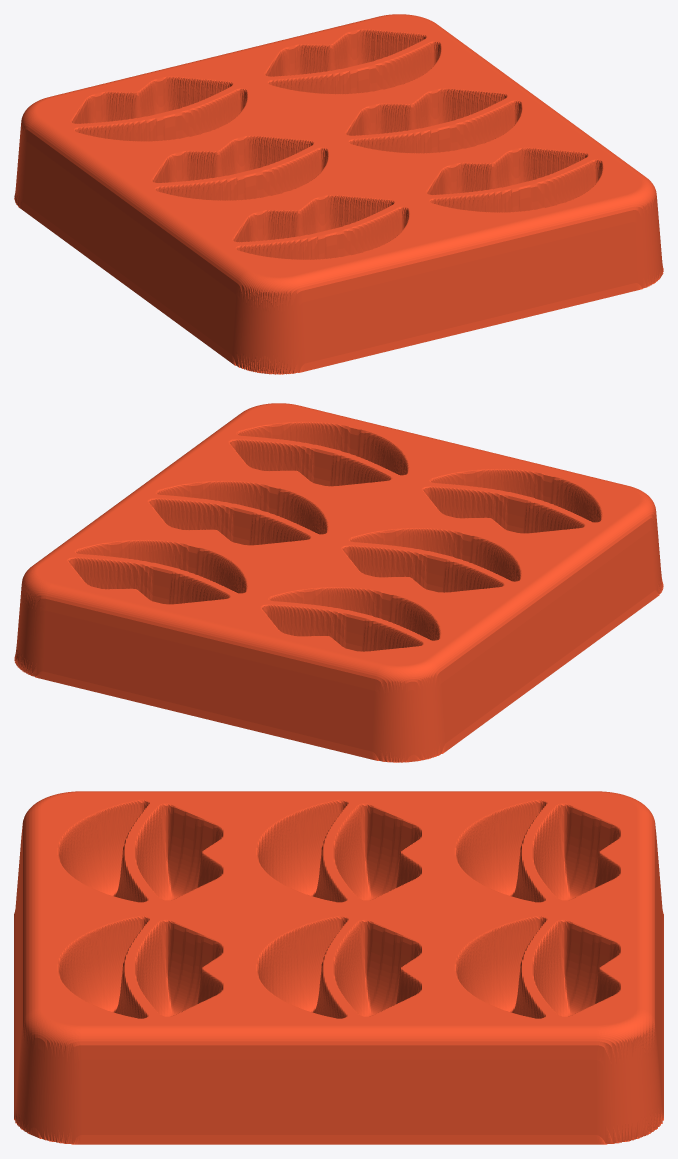
Rendered from mold.glb.
3 renders of one model, top to bottom at view 1: azimuth 30°, elevation 25°; view 2: azimuth 150°, elevation 25°; view 3: azimuth 270°, elevation 25°, orthographic. The views are drawn at different scales.
Parts seen in each view (by area): view 1: geometry_0; view 2: geometry_0; view 3: geometry_0.
Part boxes in pixels (bbox=[...]): geometry_0: bbox=[14, 14, 663, 374]; geometry_0: bbox=[14, 403, 663, 762]; geometry_0: bbox=[14, 791, 663, 1144].
Bounding box in the file's own units: 0.0808 × 0.0159 × 0.087.
